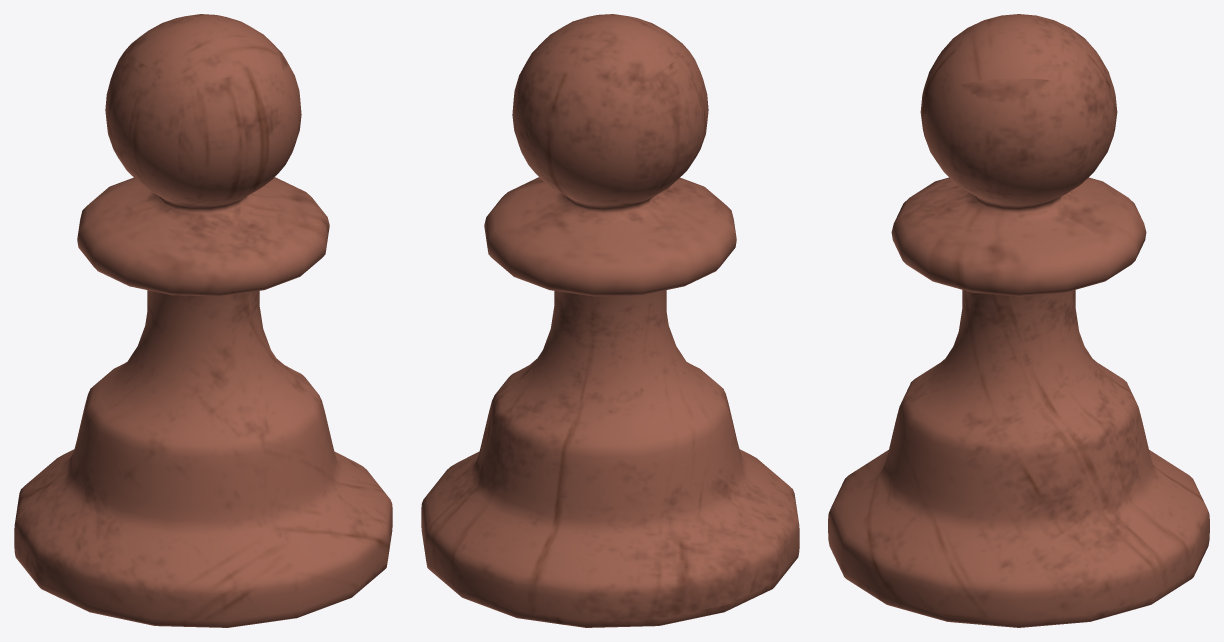
Rendered from GEO_BlackPawn_01.gltf.
The picture shows the model from 3 angles, left to right: view 1: azimuth 30°, elevation 25°; view 2: azimuth 150°, elevation 25°; view 3: azimuth 270°, elevation 25°; orthographic projection.
Parts seen in each view (by area): view 1: GEO_BlackPawn_01; view 2: GEO_BlackPawn_01; view 3: GEO_BlackPawn_01.
Part boxes in pixels (x1,y1,x2,y2): GEO_BlackPawn_01: (14,14,392,627); GEO_BlackPawn_01: (421,14,799,627); GEO_BlackPawn_01: (828,14,1209,627).
Size of the model in its own units: 0.034 by 0.0518 by 0.034.
